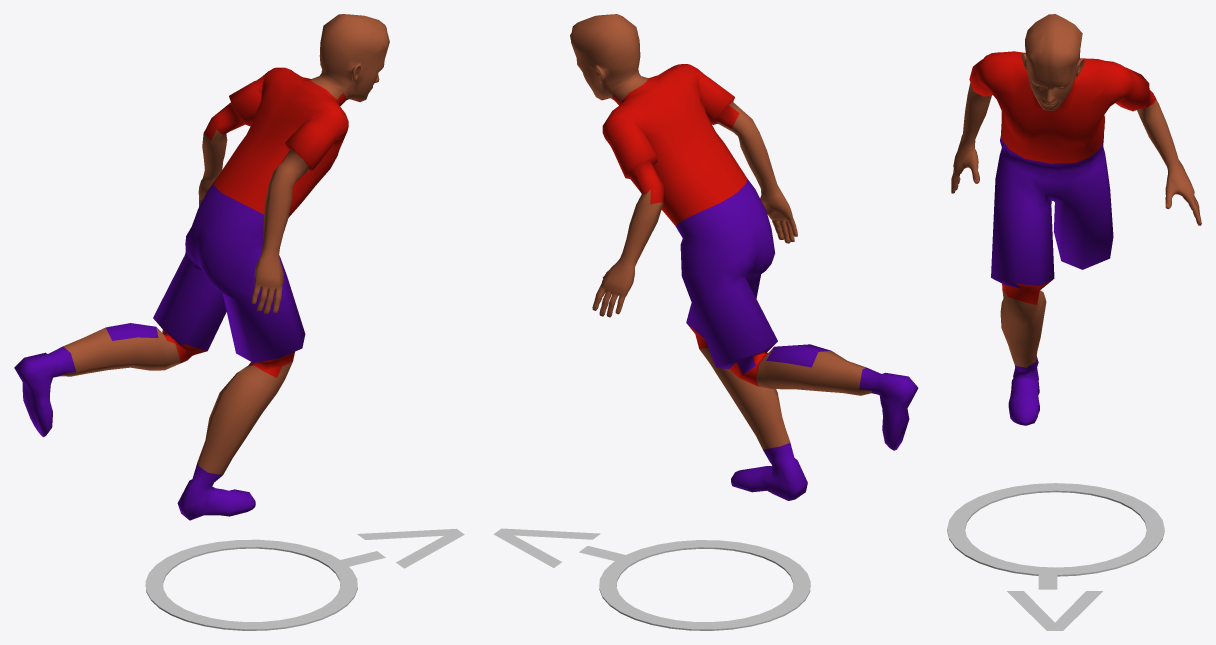
File: player_000003.obj
3 views of the same model, side by side, from view 1: azimuth 30°, elevation 25°; view 2: azimuth 150°, elevation 25°; view 3: azimuth 270°, elevation 25° (orthographic). The views are drawn at different scales.
Visible parts, largest first — view 1: soccerplayer.002_mesh.003, Circle, Text.001_Mesh.001; view 2: soccerplayer.002_mesh.003, Circle, Text.001_Mesh.001; view 3: soccerplayer.002_mesh.003, Circle, Text.001_Mesh.001.
Boxes of the visible parts, x1,y1,x2,y2 form: soccerplayer.002_mesh.003: (14,14,389,520); Circle: (145,539,357,630); Text.001_Mesh.001: (336,528,464,568); soccerplayer.002_mesh.003: (570,14,918,500); Circle: (599,540,810,630); Text.001_Mesh.001: (493,528,628,567); soccerplayer.002_mesh.003: (951,14,1201,425); Circle: (947,483,1164,576); Text.001_Mesh.001: (1007,569,1102,630).
Size of the model in its own units: 2.53 by 3.1 by 1.27.
